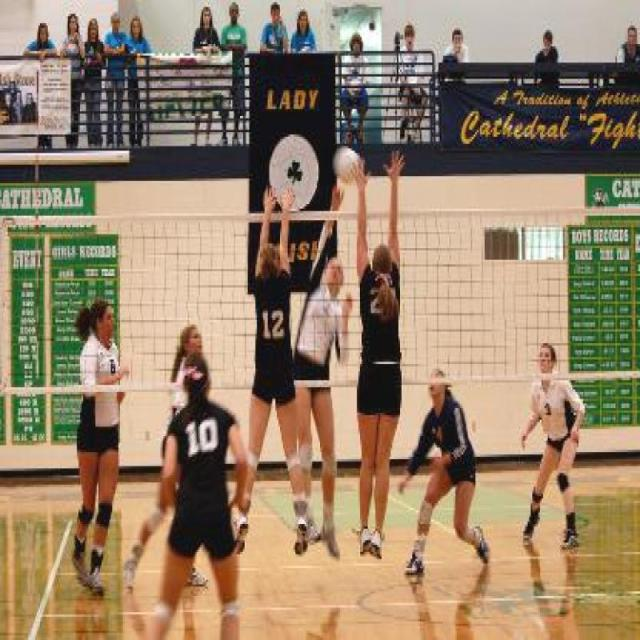volleyball: (332, 146, 362, 186)
